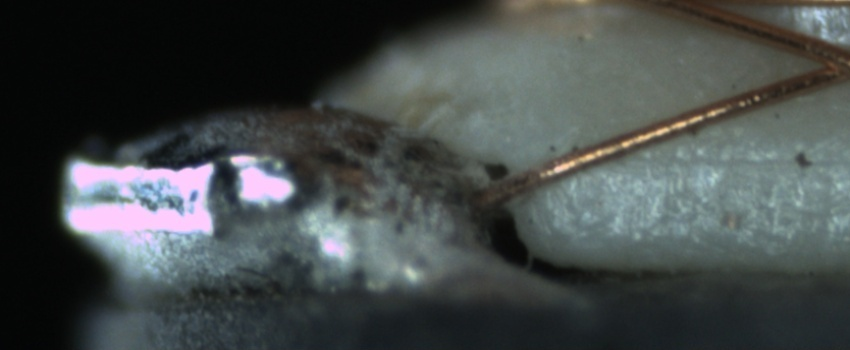CL: (793, 35, 850, 89)
DL: (608, 126, 846, 192)
